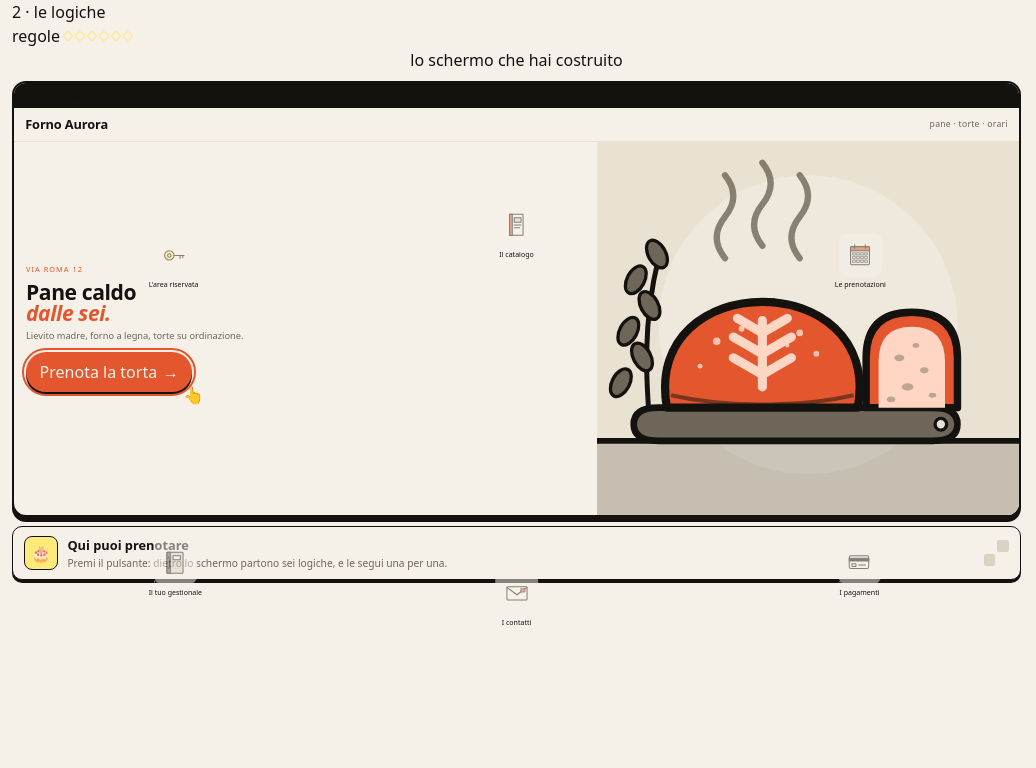
Scenario: le logiche, i sei nodi › rompi mostra l'incidente al posto della scena; fai lo toglie e resta il badge
Click the button "Prenota la torta → 👆" at (109, 372), box x1=26 y1=352 x2=192 y2=392
(page scrolled)
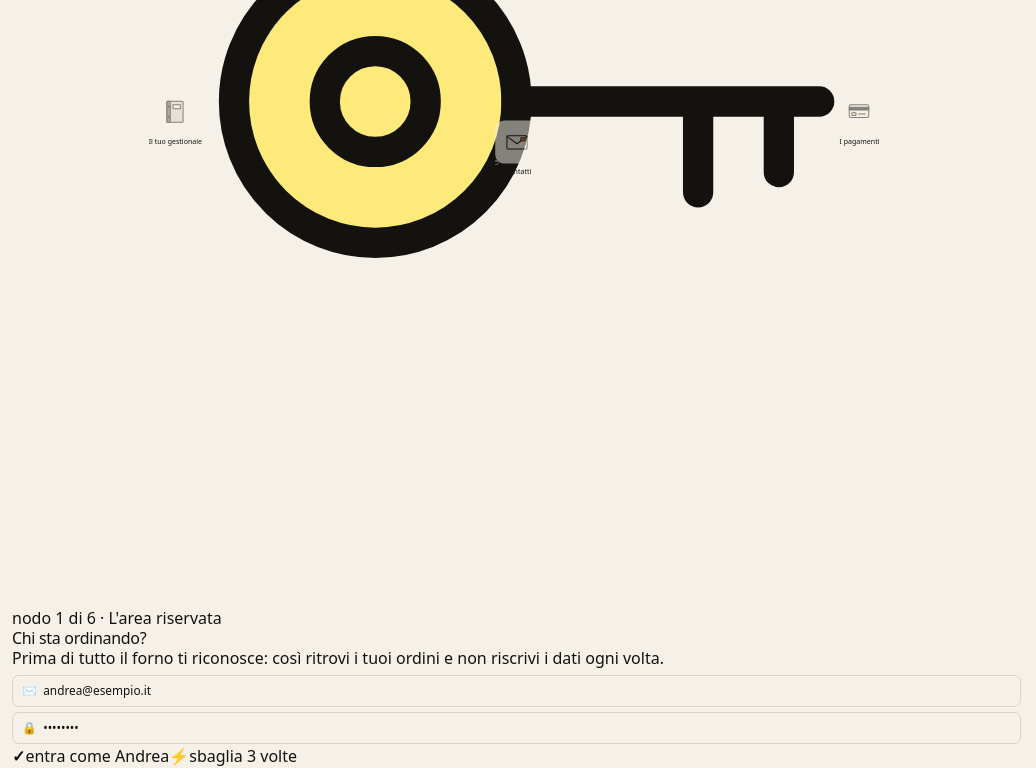
Click the button "⚡sbaglia 3 volte" at (233, 756), box x1=169 y1=744 x2=297 y2=767
(page scrolled)
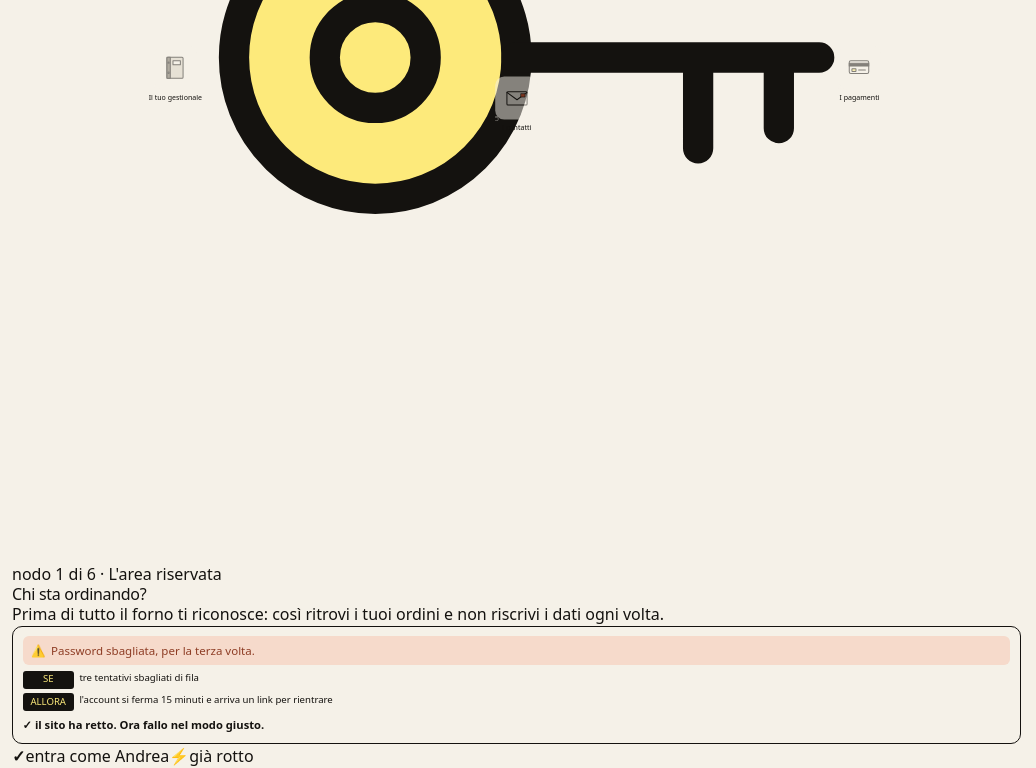
Now the text "Password sbagliata, per la terza volta." is shown, box x1=51 y1=643 x2=255 y2=658
Now the text "tre tentativi sbagliati di fila" is shown, box x1=79 y1=671 x2=199 y2=684
Now the text "l'account si ferma 15 minuti e arriva un link per rientrare" is shown, box x1=79 y1=693 x2=333 y2=706
Click the button "✓entra come Andrea" at (91, 756), box x1=12 y1=744 x2=169 y2=767
(page scrolled)
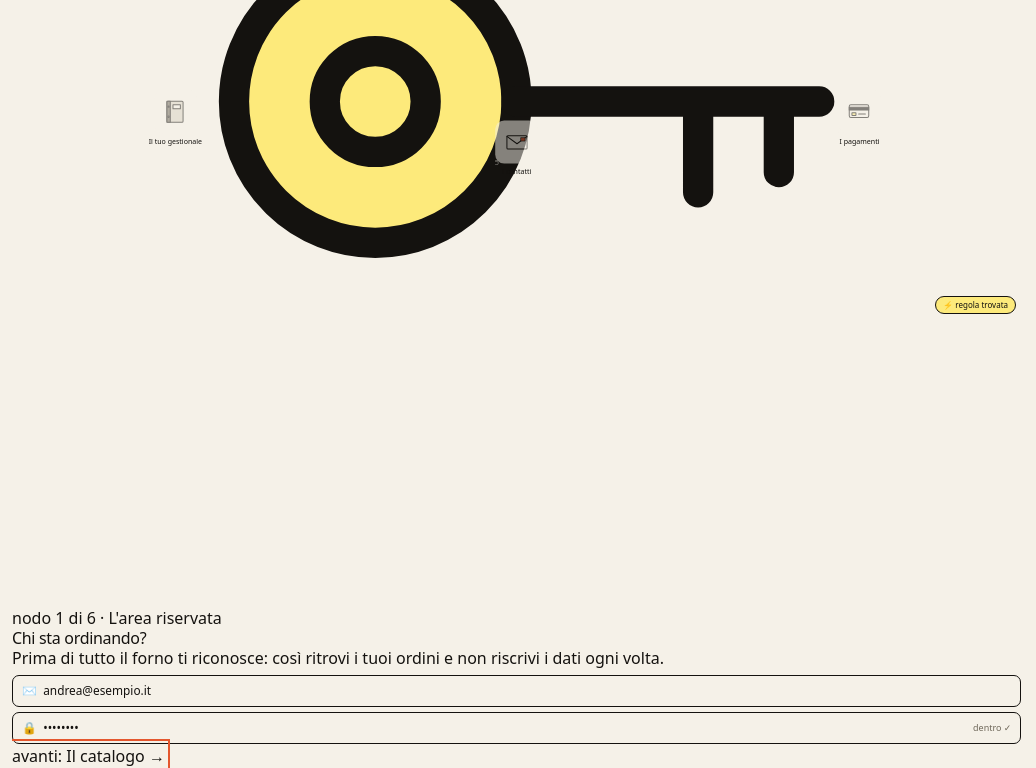
Now the text "Password sbagliata, per la terza volta." is gone
Now the text "regola trovata" is shown, box x1=955 y1=299 x2=1008 y2=310
